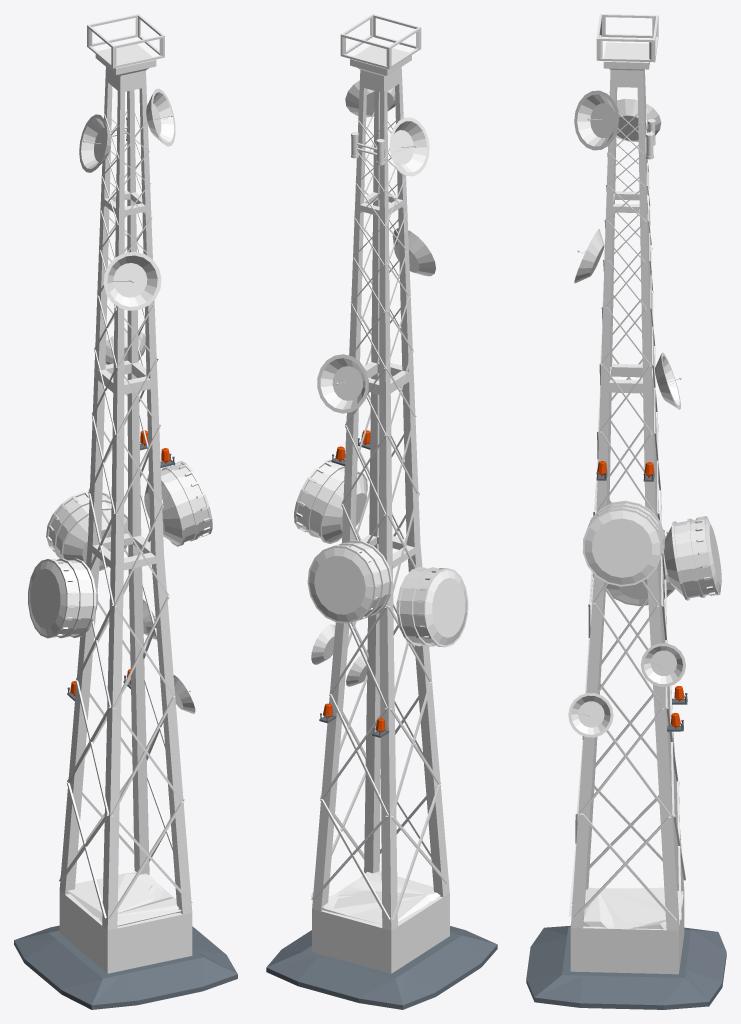
The model's file is RadioTowerMini.fbx.
3 renders of one model, left to right at view 1: azimuth 30°, elevation 25°; view 2: azimuth 150°, elevation 25°; view 3: azimuth 270°, elevation 25°, orthographic.
Visible parts, largest first — view 1: RadioTowerMini; view 2: RadioTowerMini; view 3: RadioTowerMini.
Boxes of the visible parts, x1,y1,x2,y2 form: RadioTowerMini: [14, 14, 237, 1009]; RadioTowerMini: [266, 14, 497, 1009]; RadioTowerMini: [526, 14, 726, 1009].
Size of the model in its own units: 2.73 by 14.8 by 2.85.
Materials: 2 (1 with a texture image).
